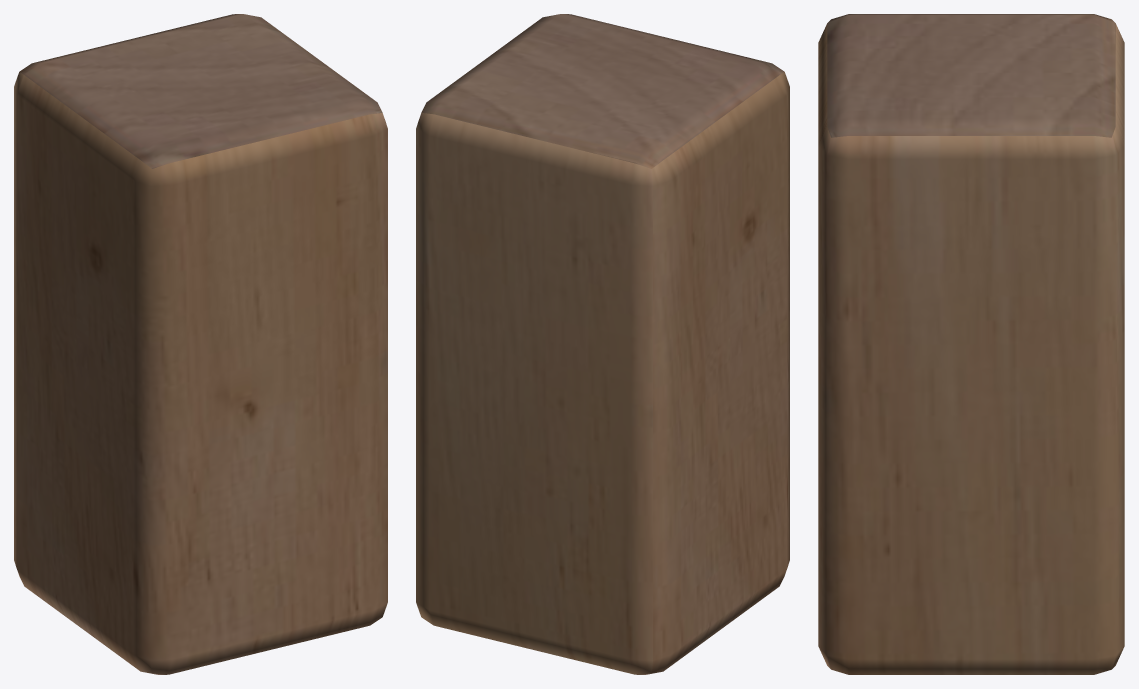
The model's file is woodblock.fbx.
3 renders of one model, left to right at view 1: azimuth 30°, elevation 25°; view 2: azimuth 150°, elevation 25°; view 3: azimuth 270°, elevation 25°, orthographic. The views are drawn at different scales.
Visible parts, largest first — view 1: pCube1; view 2: pCube1; view 3: pCube1.
Boxes of the visible parts, left/top/right/bottom form: pCube1: left=14, top=14, right=387, bottom=674; pCube1: left=416, top=14, right=789, bottom=674; pCube1: left=818, top=14, right=1124, bottom=674.
Bounding box in the file's own units: 7 × 14 × 7.
Materials: 1 (1 with a texture image).
